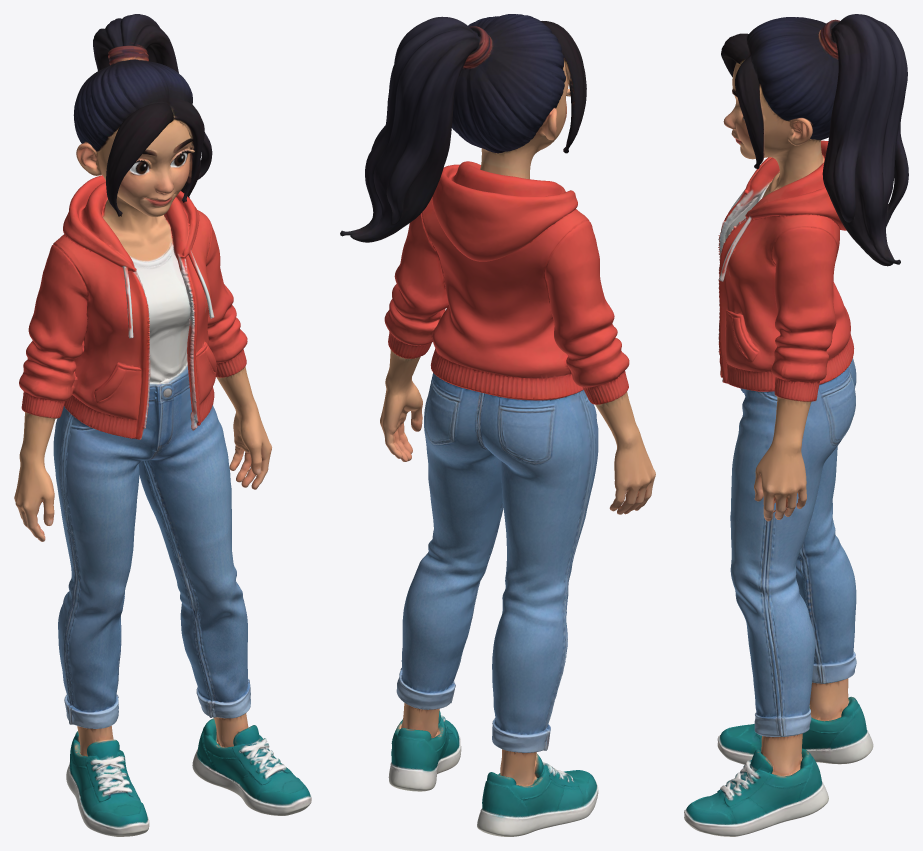
Rendered from Customer_06.glb.
3 views of the same model, side by side, from view 1: azimuth 30°, elevation 25°; view 2: azimuth 150°, elevation 25°; view 3: azimuth 270°, elevation 25° (orthographic). The views are drawn at different scales.
Visible parts, largest first — view 1: tripo_node_b14b86bc-807f-4d28-a7ee-ee02be6c8e35; view 2: tripo_node_b14b86bc-807f-4d28-a7ee-ee02be6c8e35; view 3: tripo_node_b14b86bc-807f-4d28-a7ee-ee02be6c8e35.
Boxes of the visible parts, x1=… form: tripo_node_b14b86bc-807f-4d28-a7ee-ee02be6c8e35: x1=14, y1=14, x2=311, y2=836; tripo_node_b14b86bc-807f-4d28-a7ee-ee02be6c8e35: x1=340, y1=14, x2=655, y2=836; tripo_node_b14b86bc-807f-4d28-a7ee-ee02be6c8e35: x1=684, y1=14, x2=908, y2=836.
Bounding box in the file's own units: 0.3478 × 0.9787 × 0.2582.
Materials: 1 (1 with a texture image).
